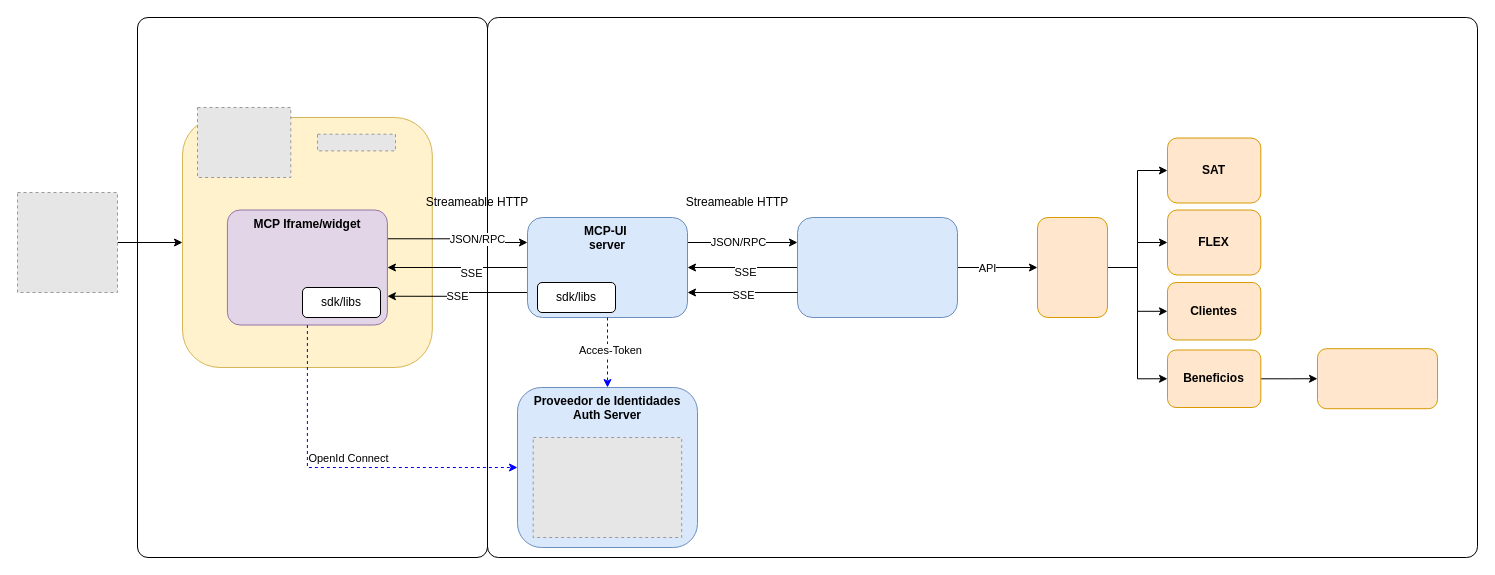
This 1495x575 diagram has some shape labels left out. Grey dashed boxes stand in for pictures. Here are the shapes that lost their labels. From the top down, the centre of each, then its label:
(877,267): MCP Server
(1072,267): API Gateway
(1377,378): Martech
